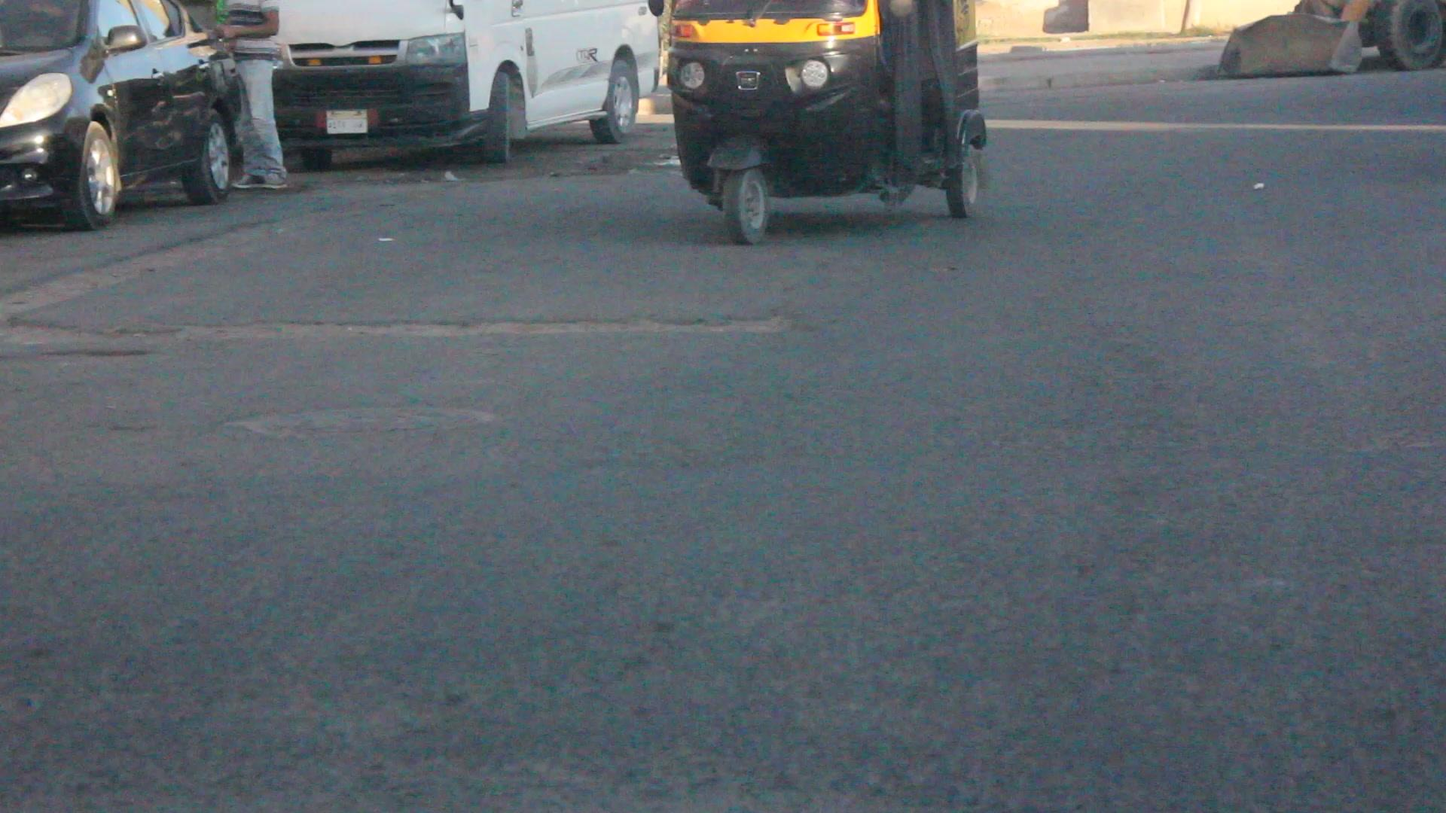Pothole: (38, 311, 834, 348)
